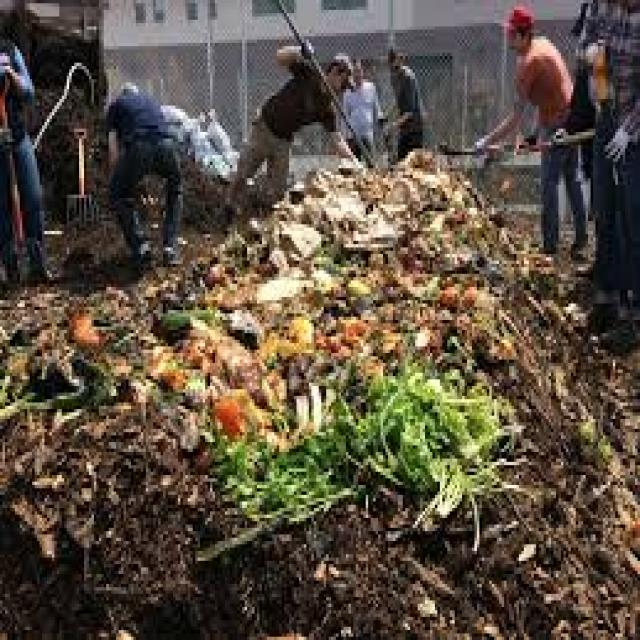food_waste: (297, 182, 483, 486)
